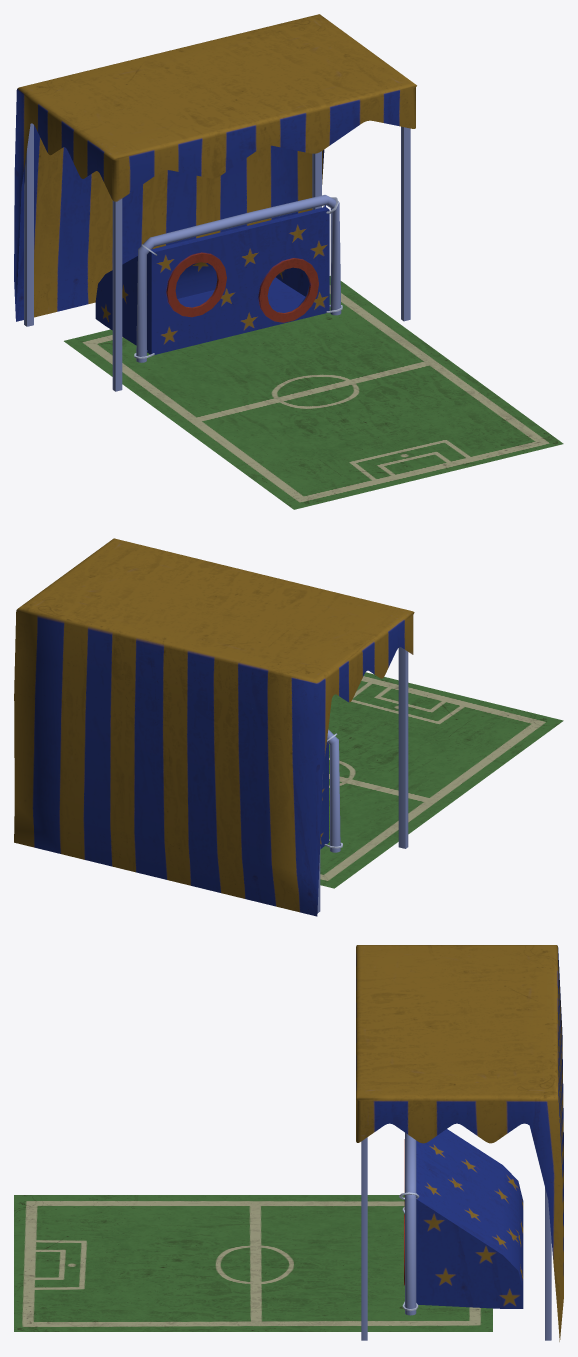
File: MSH_PuestoFut.fbx
The picture shows the model from 3 angles, top to bottom: view 1: azimuth 30°, elevation 25°; view 2: azimuth 150°, elevation 25°; view 3: azimuth 270°, elevation 25°; orthographic projection. The views are drawn at different scales.
Visible parts, largest first — view 1: Box006, MSH_TapeteFut; view 2: Box006, MSH_TapeteFut; view 3: Box006, MSH_TapeteFut.
Boxes of the visible parts, bbox=[...] form: Box006: bbox=[14, 14, 416, 391]; MSH_TapeteFut: bbox=[64, 276, 563, 509]; Box006: bbox=[14, 538, 414, 916]; MSH_TapeteFut: bbox=[320, 672, 563, 888]; Box006: bbox=[356, 945, 563, 1341]; MSH_TapeteFut: bbox=[14, 1195, 492, 1331].
Bounding box in the file's own units: 170 × 126 × 255.
